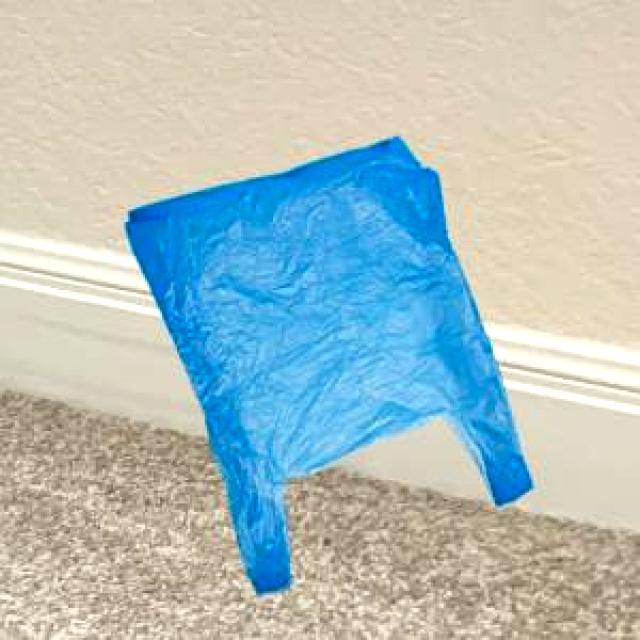Plastic_Bag: (122, 133, 528, 590)
